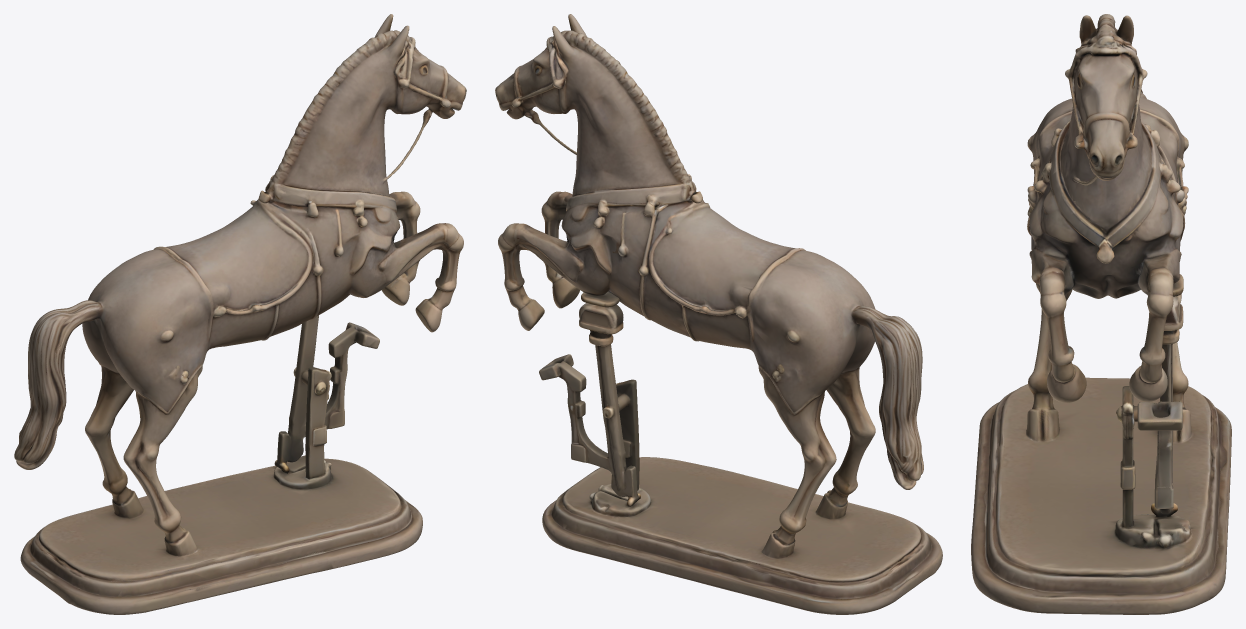
Rendered from plaza-statue-horse.glb.
The picture shows the model from 3 angles, left to right: view 1: azimuth 30°, elevation 25°; view 2: azimuth 150°, elevation 25°; view 3: azimuth 270°, elevation 25°; orthographic projection. The views are drawn at different scales.
Parts seen in each view (by area): view 1: tripo_node_c4df3d1a-e930-4c95-937f-c45c246a97be; view 2: tripo_node_c4df3d1a-e930-4c95-937f-c45c246a97be; view 3: tripo_node_c4df3d1a-e930-4c95-937f-c45c246a97be.
Part boxes in pixels (left/top/right/bottom): tripo_node_c4df3d1a-e930-4c95-937f-c45c246a97be: left=14, top=14, right=466, bottom=614; tripo_node_c4df3d1a-e930-4c95-937f-c45c246a97be: left=495, top=14, right=942, bottom=614; tripo_node_c4df3d1a-e930-4c95-937f-c45c246a97be: left=971, top=14, right=1231, bottom=614.
Bounding box in the file's own units: 4.71 × 5 × 1.95.
Materials: 1 (1 with a texture image).
